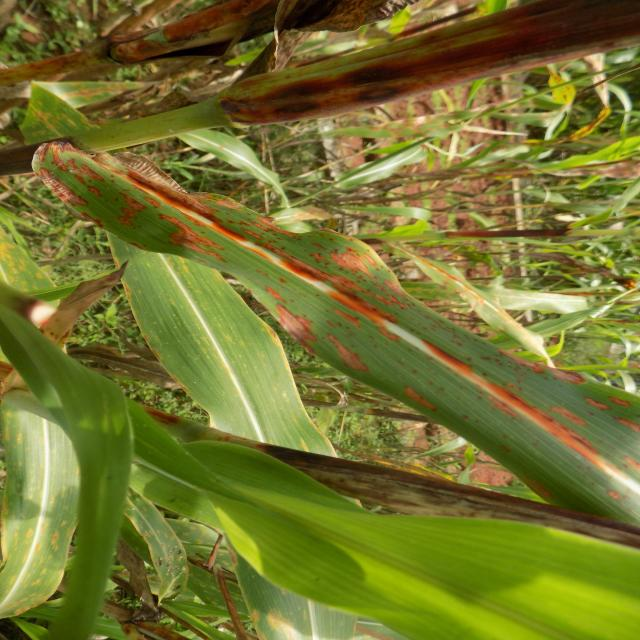millet_healthy: (0, 292, 640, 640), (110, 123, 402, 640), (0, 291, 137, 640), (172, 123, 309, 212), (323, 141, 436, 204)
millet_rust: (25, 132, 640, 520), (217, 441, 640, 550), (0, 387, 85, 640), (402, 242, 560, 366), (0, 260, 138, 392), (215, 0, 436, 73), (517, 41, 616, 157), (553, 151, 640, 186)
